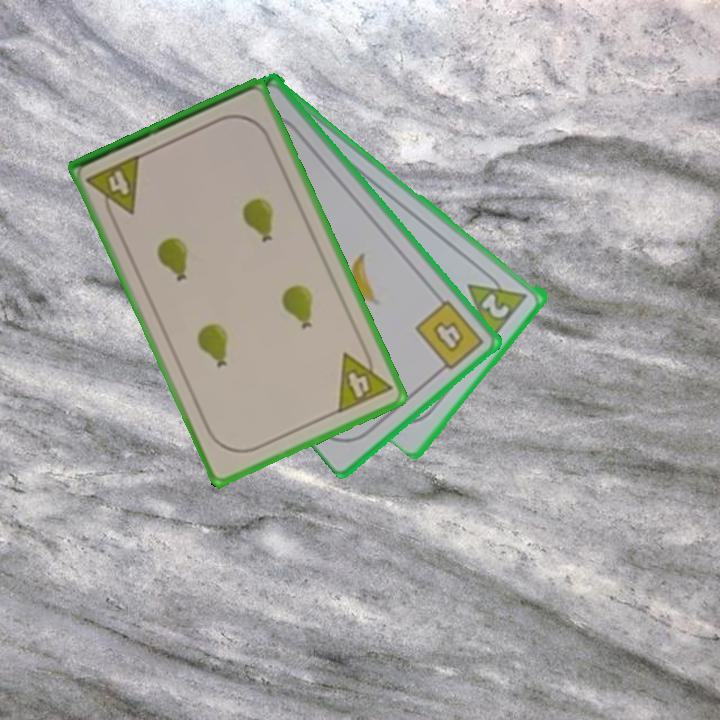2p: (478, 289, 513, 322)
4b: (411, 296, 487, 377)
4p: (333, 341, 395, 417), (83, 151, 144, 224)
